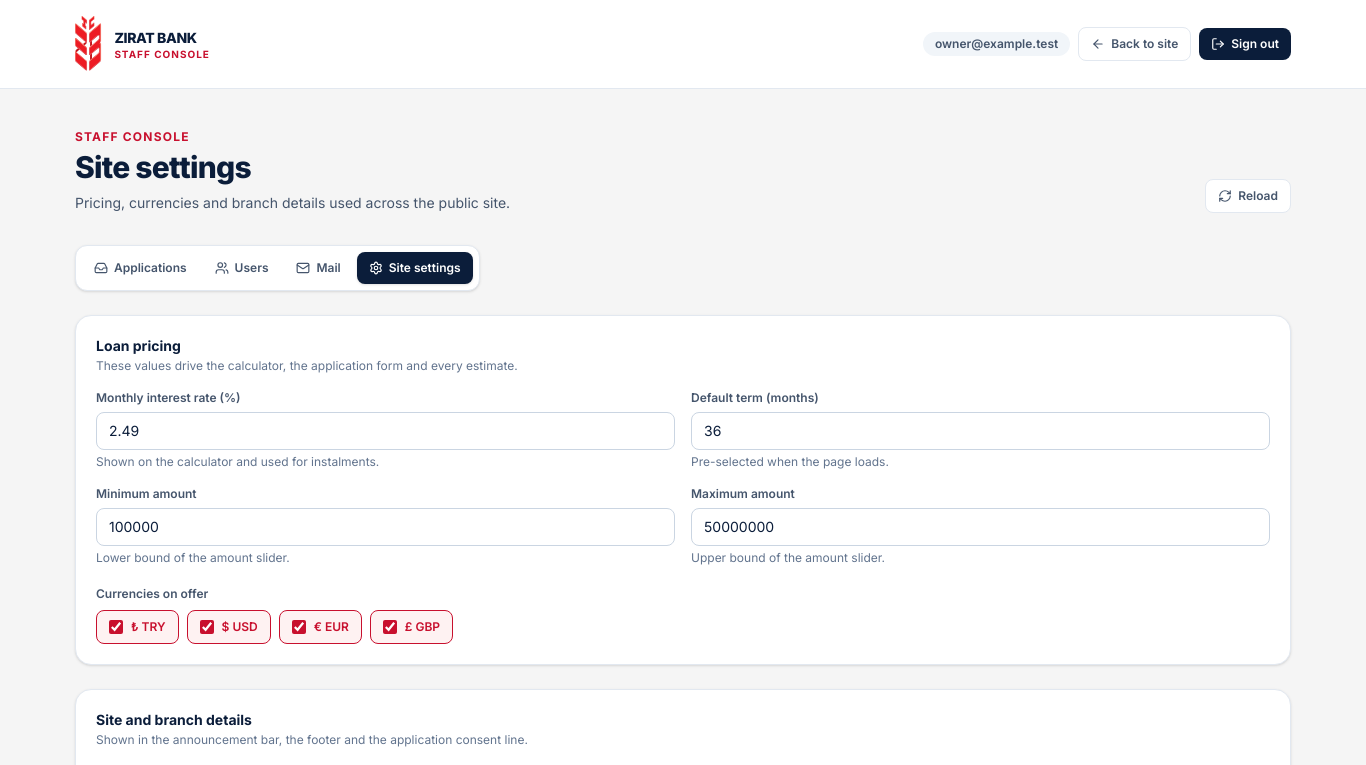
Test: admin users and settings › saves site settings as the owner
The image size is (1366, 765).
Expected: the heading "Site settings" is shown, x1=75 y1=149 x2=251 y2=185
Replace the text in the number field labelled "Monthly interest rate (%)" with "3.25" at (386, 431), box x1=96 y1=412 x2=675 y2=450
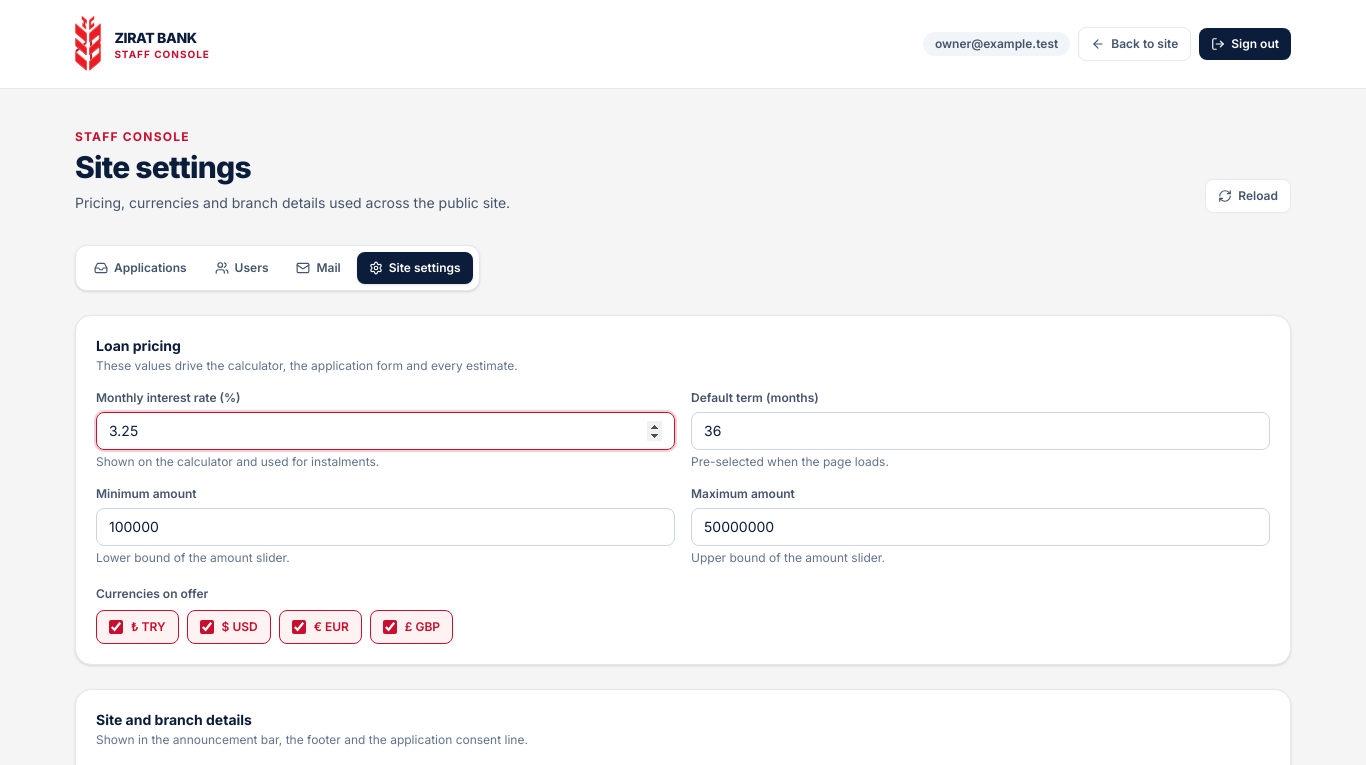
Click the checkbox labelled "$ USD" at (207, 627), box x1=200 y1=620 x2=214 y2=634
(page scrolled)
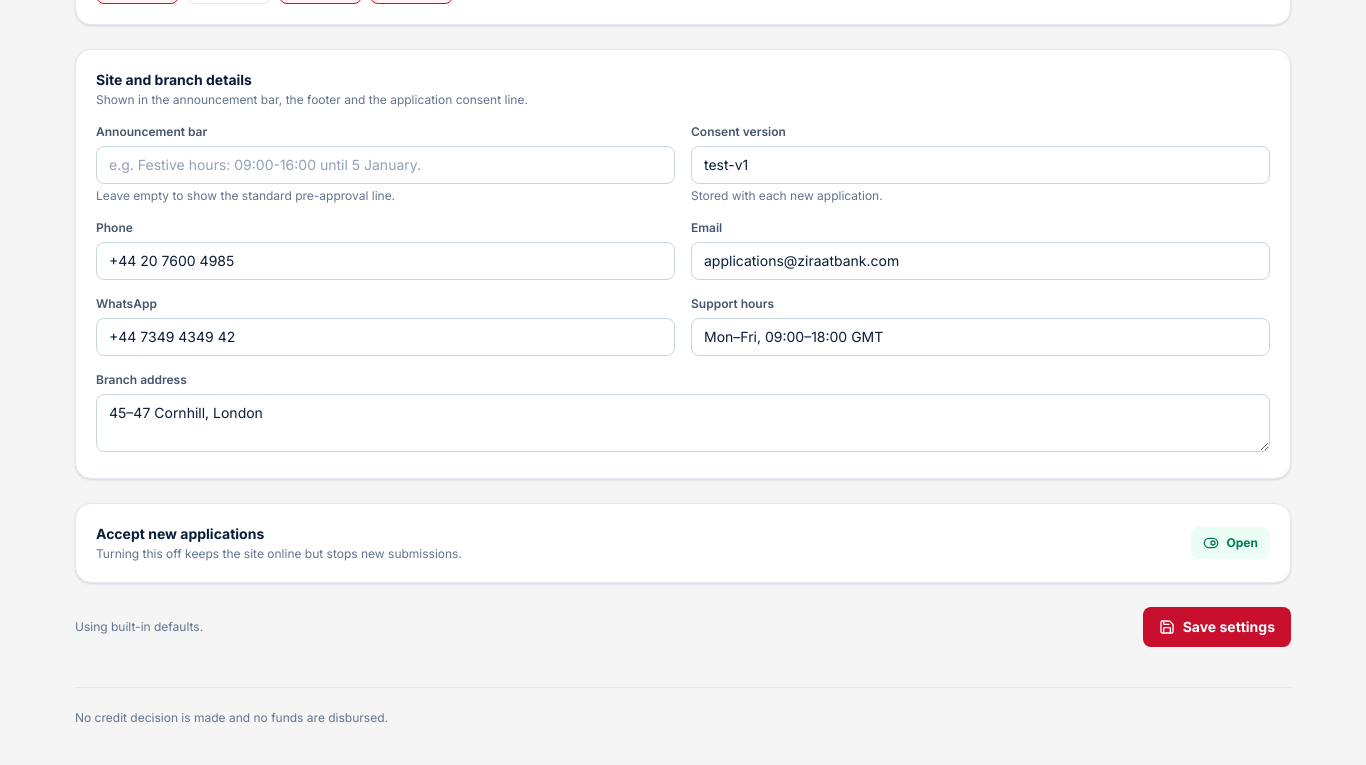
Click the switch named "Accept new applications" at (1230, 543), box x1=1191 y1=527 x2=1270 y2=559
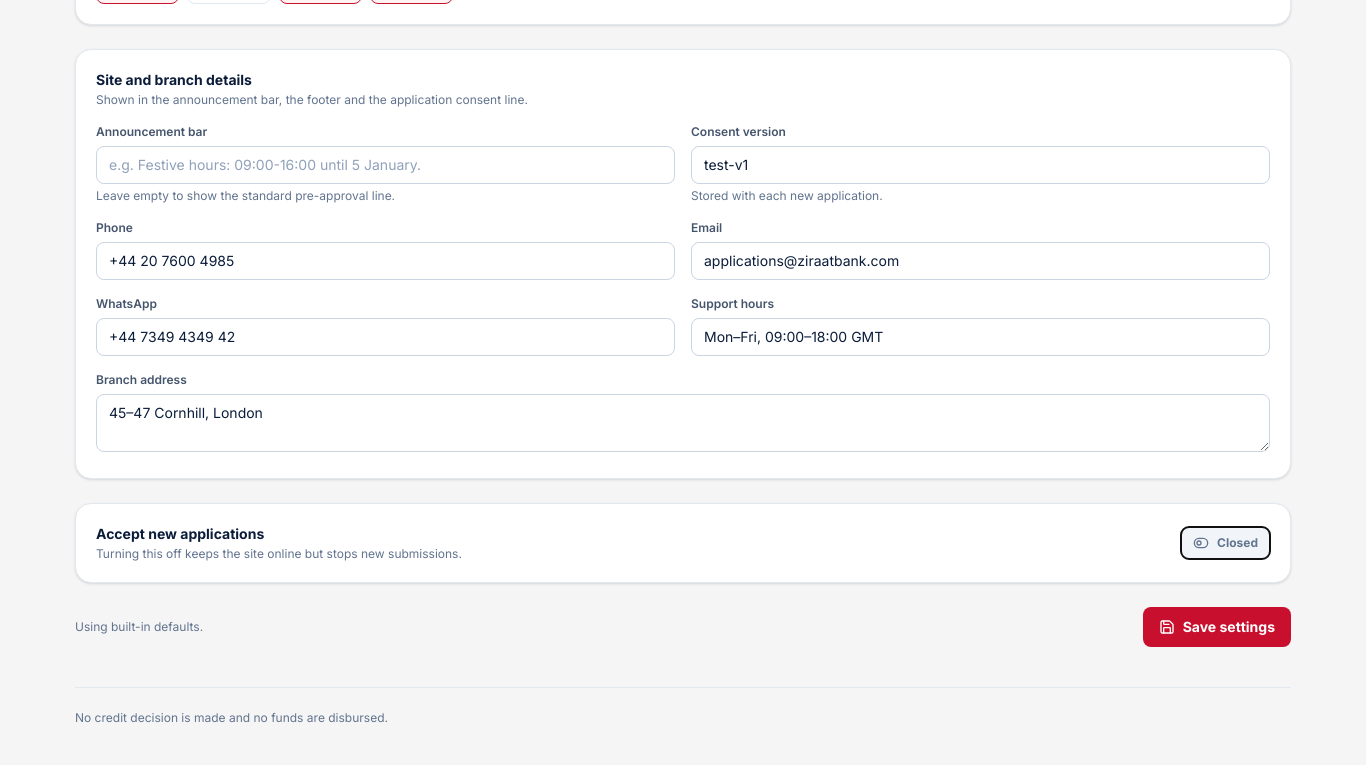
Click the button "Save settings" at (1217, 627), box x1=1143 y1=607 x2=1291 y2=647
(page scrolled)
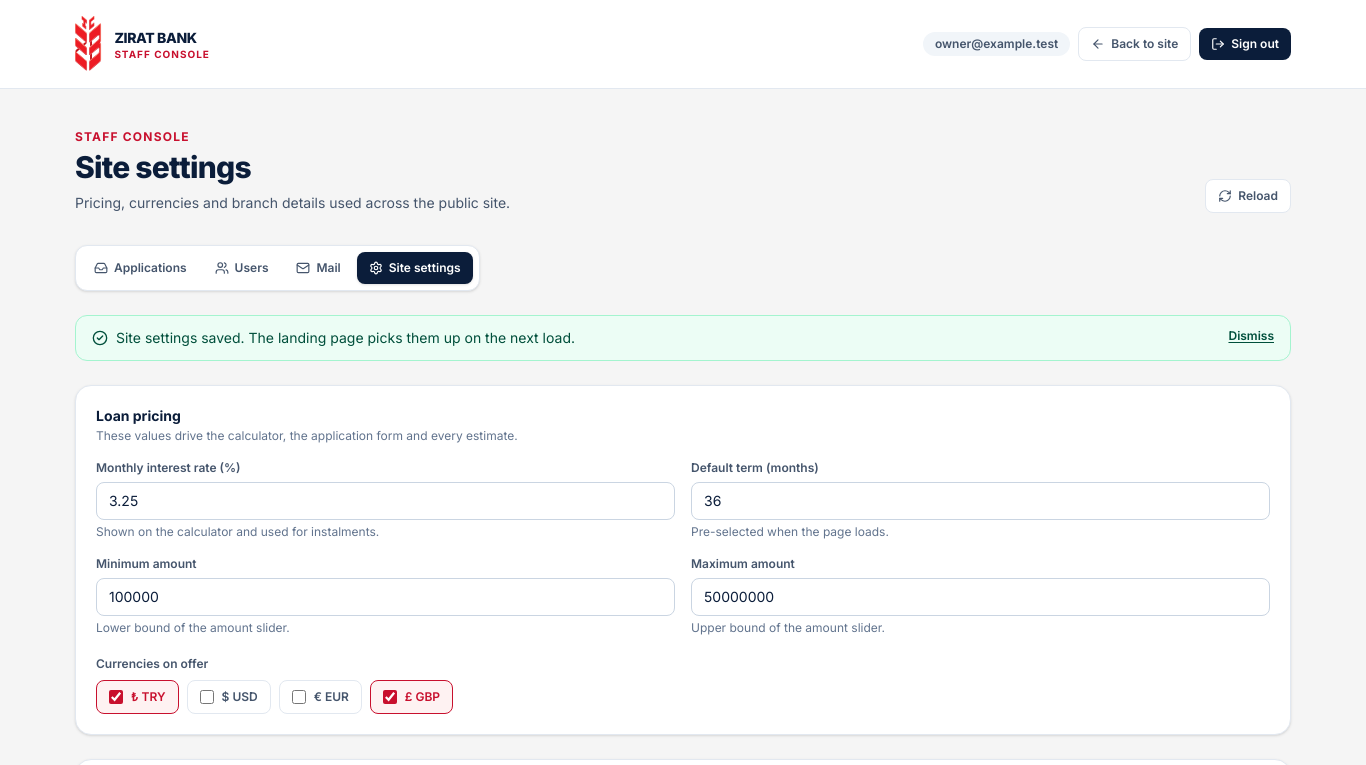
Expected: the text "Site settings saved" is shown, x1=116 y1=329 x2=575 y2=346
